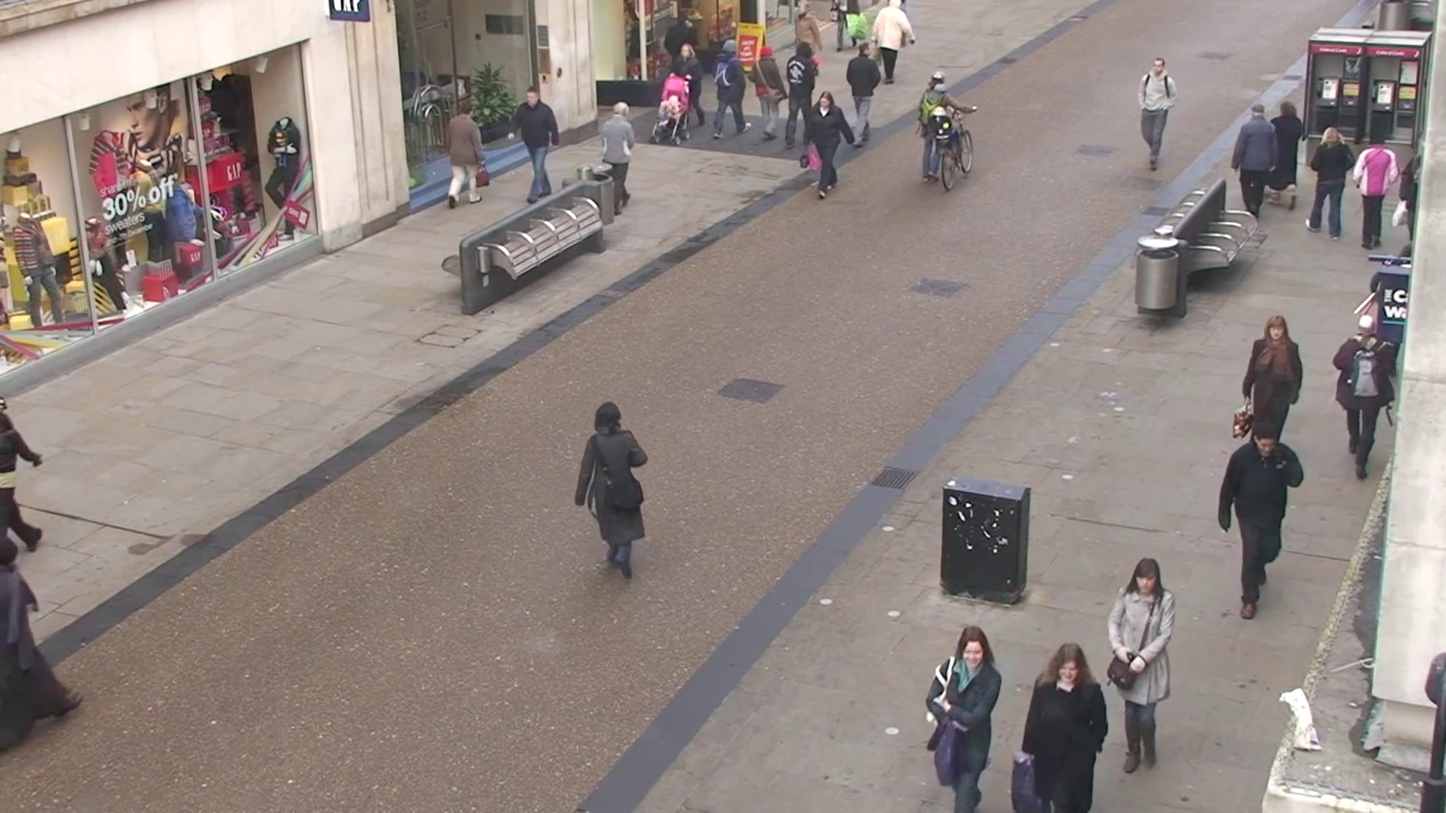person: (0, 523, 79, 753), (1217, 416, 1304, 621), (1016, 642, 1109, 813), (1106, 557, 1176, 775), (925, 626, 1004, 813), (575, 401, 651, 580), (1331, 311, 1394, 481), (1242, 313, 1304, 446), (651, 36, 712, 166), (0, 400, 44, 561), (1353, 133, 1401, 249), (514, 85, 560, 202), (444, 90, 490, 207), (1306, 126, 1353, 239), (593, 99, 636, 219), (1234, 103, 1277, 221), (806, 91, 852, 201), (1138, 55, 1179, 172), (749, 32, 782, 163), (868, 0, 914, 85), (846, 45, 883, 143), (1270, 100, 1302, 202), (713, 45, 747, 139), (799, 35, 819, 160)
